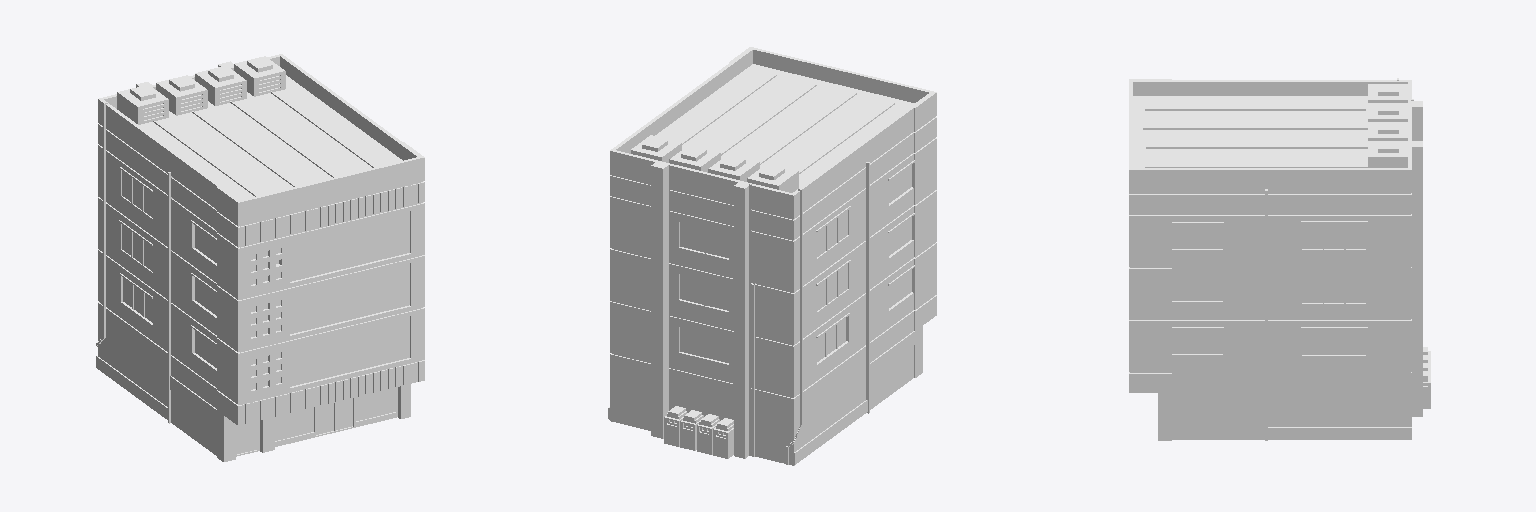
File: GDS2_Business-1.obj
The picture shows the model from 3 angles: view 1: azimuth 30°, elevation 25°; view 2: azimuth 150°, elevation 25°; view 3: azimuth 270°, elevation 25°; orthographic projection.
Visible parts, largest first — view 1: GDS2_Business-1; view 2: GDS2_Business-1; view 3: GDS2_Business-1.
Boxes of the visible parts, <box> form: GDS2_Business-1: <box>96,54,424,461</box>; GDS2_Business-1: <box>608,47,936,465</box>; GDS2_Business-1: <box>1129,78,1430,440</box>.
Size of the model in its own units: 15.1 by 21.2 by 20.9.